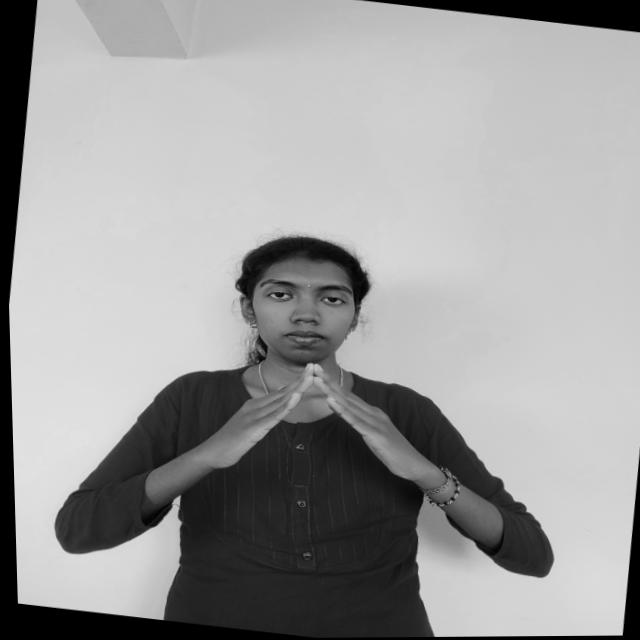Home: (168, 337, 452, 507)
